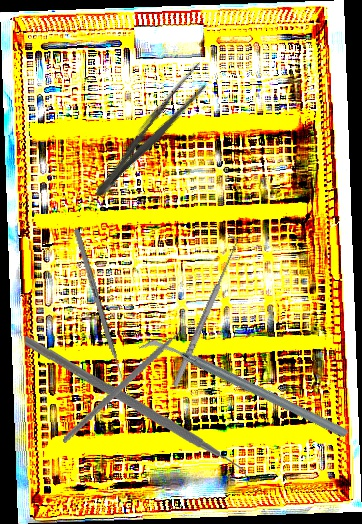Chopper: (137, 278, 350, 500), (24, 332, 249, 498), (62, 300, 201, 469)
Dressing Forceps: (86, 57, 218, 207)
Hook Surgical: (165, 234, 243, 389)
Pusher: (73, 228, 128, 390)
